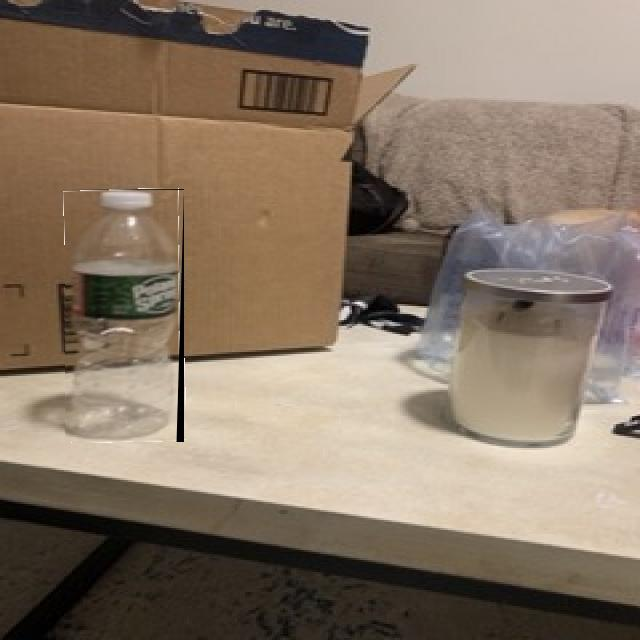water_bottle: (65, 189, 184, 442)
